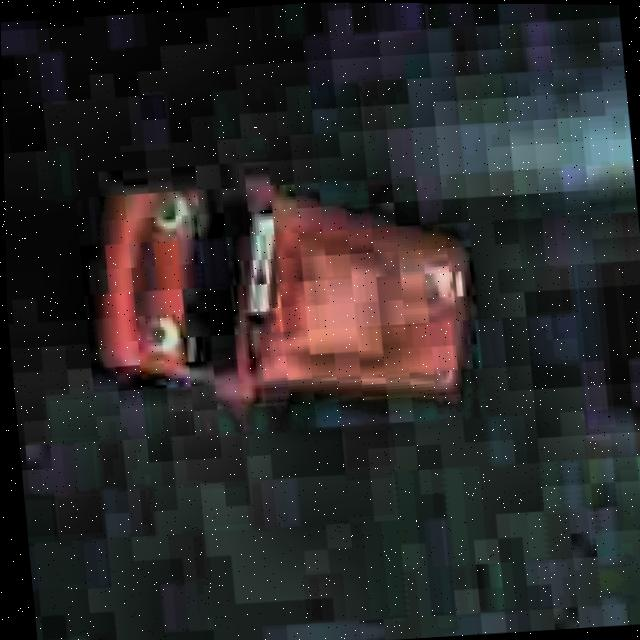bus: (67, 158, 500, 440)
